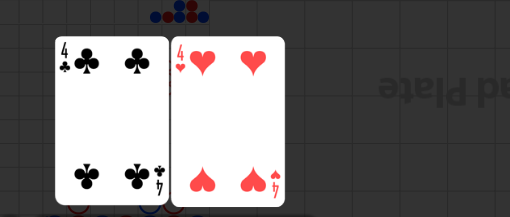4C: (151, 163, 166, 197)
4H: (269, 168, 282, 199)
